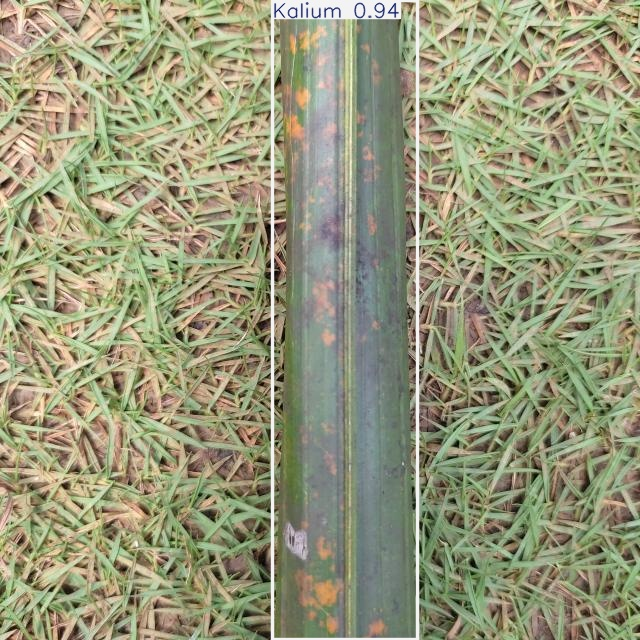Kalium: (272, 0, 418, 640)
